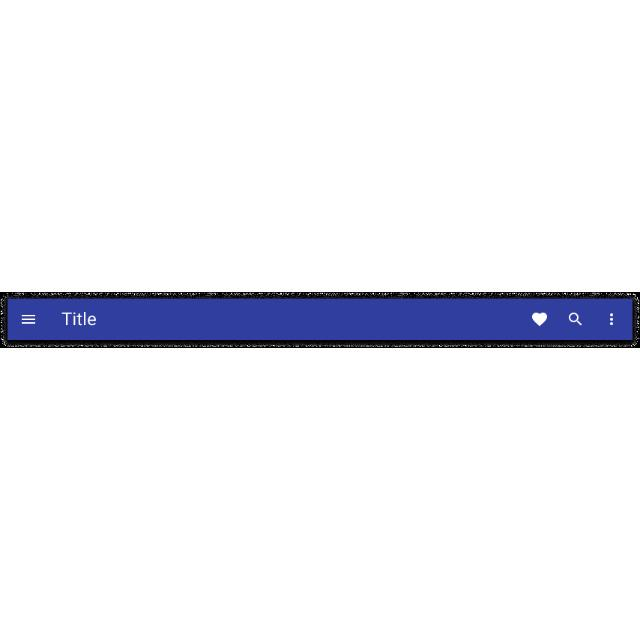QLabel: (59, 312, 96, 328)
VAppBar: (6, 297, 634, 343)
VIcon: (532, 312, 548, 328), (567, 313, 583, 327), (20, 313, 36, 325), (610, 312, 614, 328)
